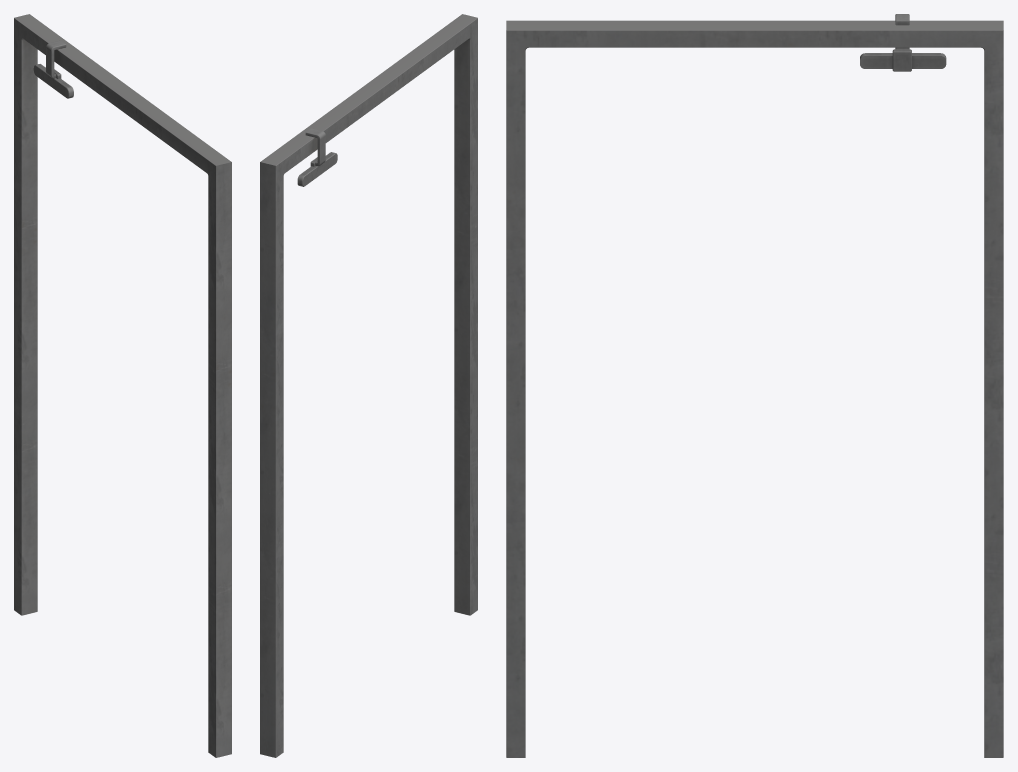
The model's file is SM_Single_DoorFrame_01.fbx.
3 views of the same model, side by side, from view 1: azimuth 30°, elevation 25°; view 2: azimuth 150°, elevation 25°; view 3: azimuth 270°, elevation 25° (orthographic). The views are drawn at different scales.
Parts seen in each view (by area): view 1: SM_Single_DoorFrame_01_LOD0; view 2: SM_Single_DoorFrame_01_LOD0; view 3: SM_Single_DoorFrame_01_LOD0.
Boxes of the visible parts, left/top/right/bottom form: SM_Single_DoorFrame_01_LOD0: left=14, top=14, right=231, bottom=757; SM_Single_DoorFrame_01_LOD0: left=260, top=14, right=477, bottom=757; SM_Single_DoorFrame_01_LOD0: left=506, top=14, right=1003, bottom=757.
Size of the model in its own units: 10.08 by 157 by 256.
1 material, 1 textured.
